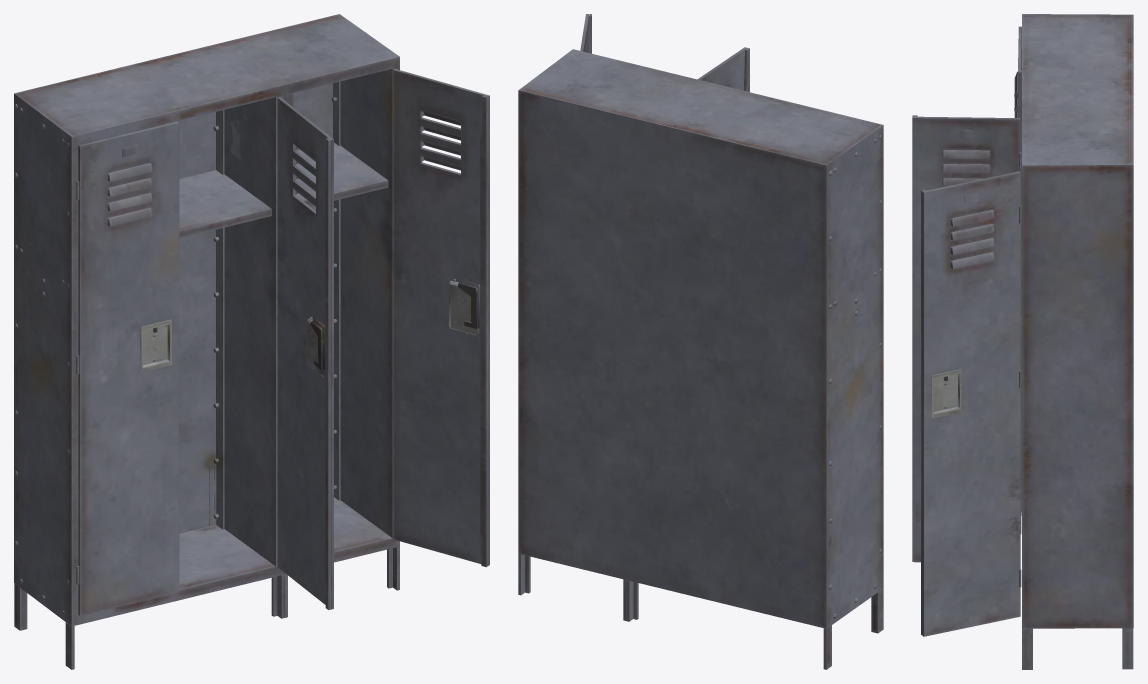
File: locker_black.glb
3 views of the same model, side by side, from view 1: azimuth 30°, elevation 25°; view 2: azimuth 150°, elevation 25°; view 3: azimuth 270°, elevation 25° (orthographic). The views are drawn at different scales.
Parts seen in each view (by area): view 1: defaultMaterial; view 2: defaultMaterial; view 3: defaultMaterial.
Part boxes in pixels (x1,y1,x2,y2): defaultMaterial: (14, 14, 489, 669); defaultMaterial: (518, 14, 883, 669); defaultMaterial: (912, 14, 1133, 669).
Bounding box in the file's own units: 1.38 × 1.91 × 0.7592.
Materials: 1 (1 with a texture image).
